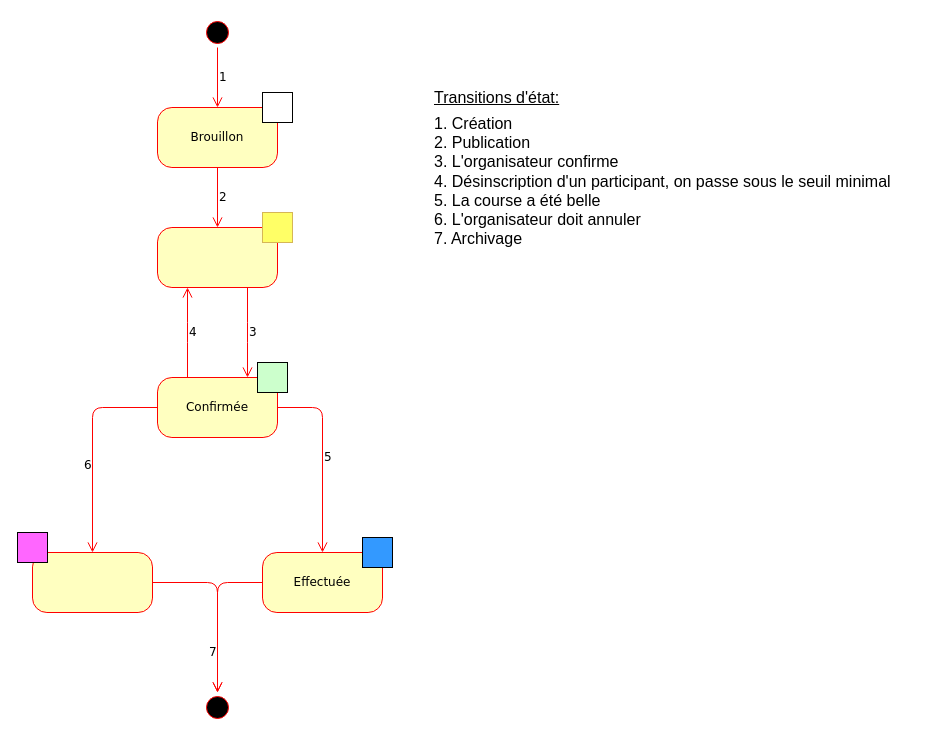
The diagram is 950 pixels wide and 740 high, and some of its shapes have lost their labels. Here are the shapes that lost their labels. From the top down, the box of each, then its label:
(156, 226, 278, 288): Ouverte
(32, 552, 152, 612): Annulée
